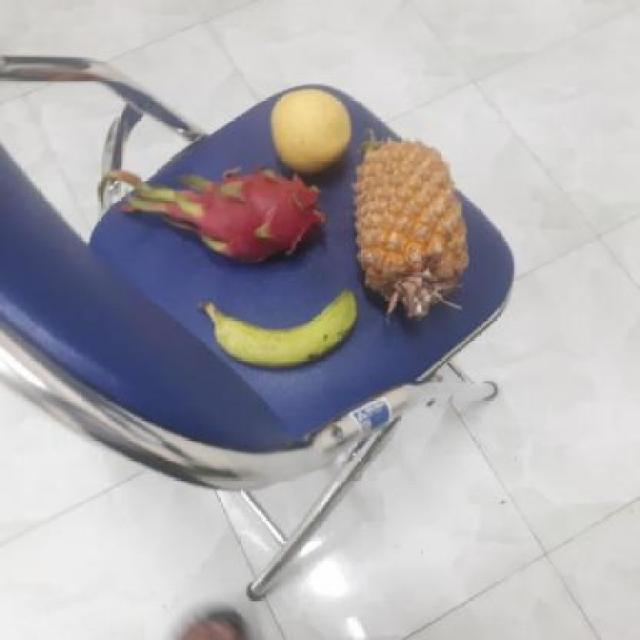banana: (210, 280, 353, 366)
dragon fruit: (152, 169, 321, 266)
pear: (270, 89, 353, 173)
pineapple: (348, 137, 471, 318)
